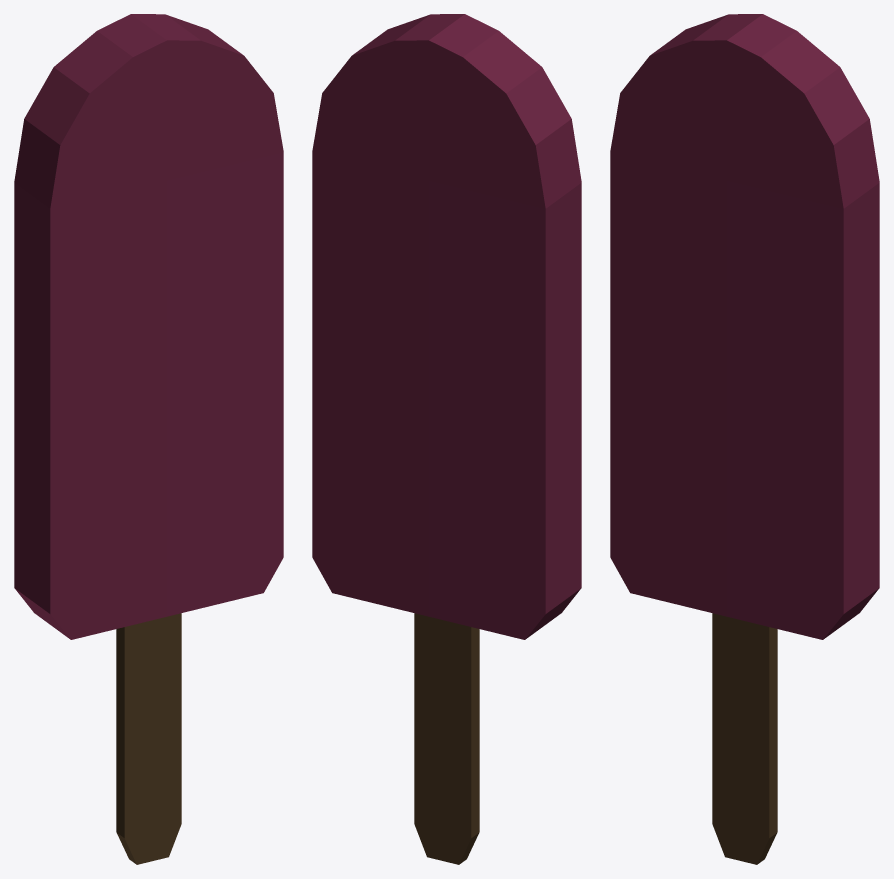
Rendered from Popsicle_Strawberry.obj.
3 views of the same model, side by side, from view 1: azimuth 30°, elevation 25°; view 2: azimuth 150°, elevation 25°; view 3: azimuth 330°, elevation 25° (orthographic).
Visible parts, largest first — view 1: Popsicle_Strawberry_Cube.029; view 2: Popsicle_Strawberry_Cube.029; view 3: Popsicle_Strawberry_Cube.029.
Part boxes in pixels (x1,y1,x2,y2): Popsicle_Strawberry_Cube.029: (14, 14, 283, 864); Popsicle_Strawberry_Cube.029: (312, 14, 581, 864); Popsicle_Strawberry_Cube.029: (610, 14, 879, 864).
Bounding box in the file's own units: 0.2911 × 0.99 × 0.0798.
